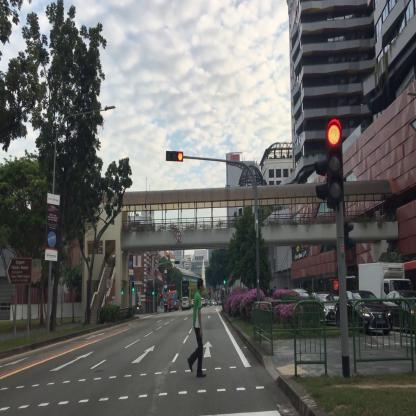red_traffic_light: (326, 122, 344, 200), (166, 150, 183, 162)
